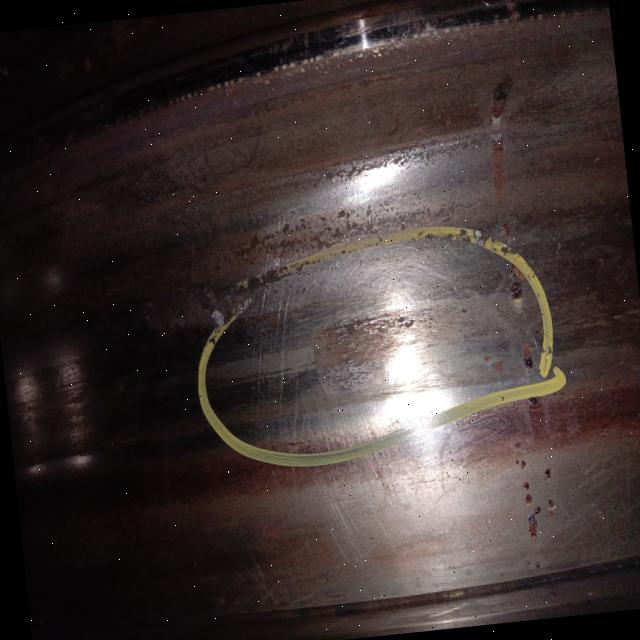Peeling: (300, 302, 455, 386)
